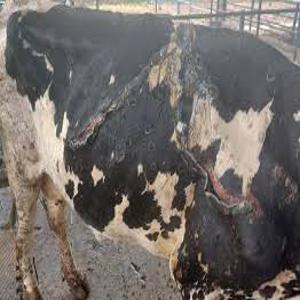lumpy skin diesease: (0, 3, 299, 299)
